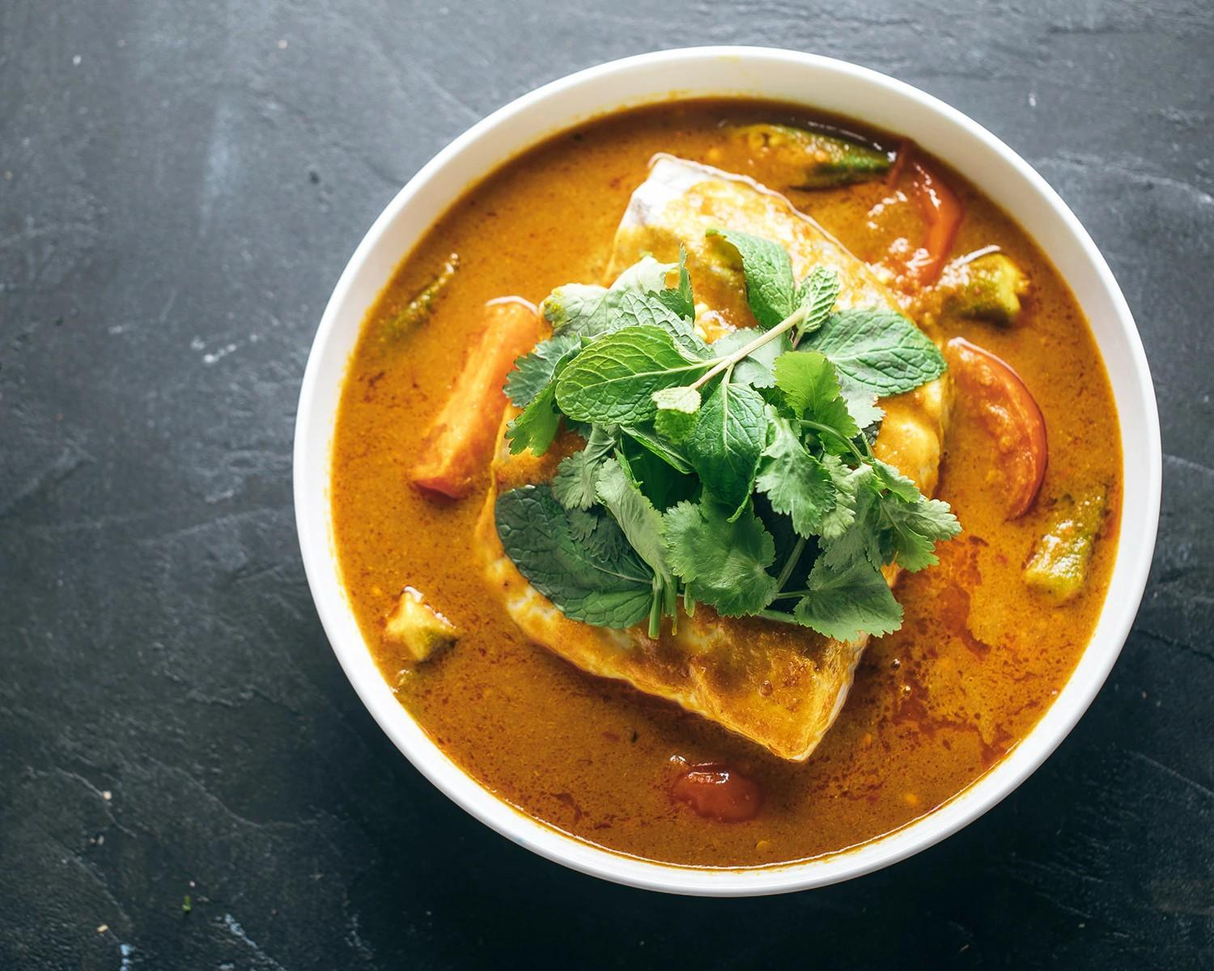FishCurry: (334, 99, 1128, 865)
